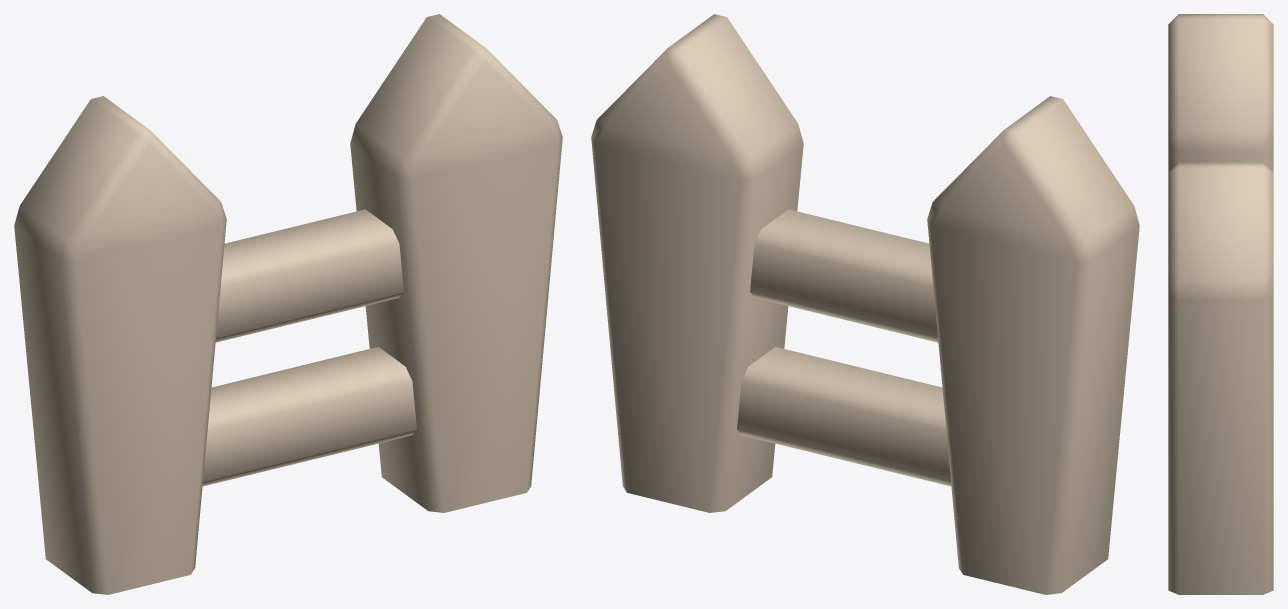
Rendered from fence_straight.glb.
The picture shows the model from 3 angles, left to right: view 1: azimuth 30°, elevation 25°; view 2: azimuth 150°, elevation 25°; view 3: azimuth 270°, elevation 25°; orthographic projection. The views are drawn at different scales.
Parts seen in each view (by area): view 1: fence_straight; view 2: fence_straight; view 3: fence_straight.
Part boxes in pixels (x1,y1,x2,y2): fence_straight: [14, 14, 562, 594]; fence_straight: [591, 14, 1139, 594]; fence_straight: [1168, 14, 1273, 594].
Bounding box in the file's own units: 1.49 × 1.28 × 0.3.
